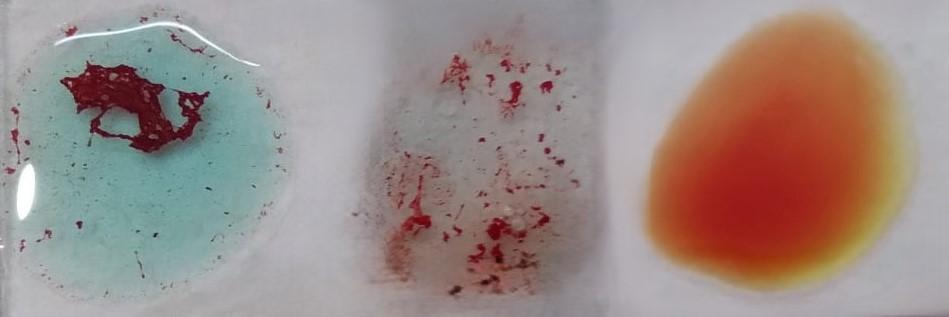A: (1, 16, 295, 305)
D: (365, 13, 604, 304)
